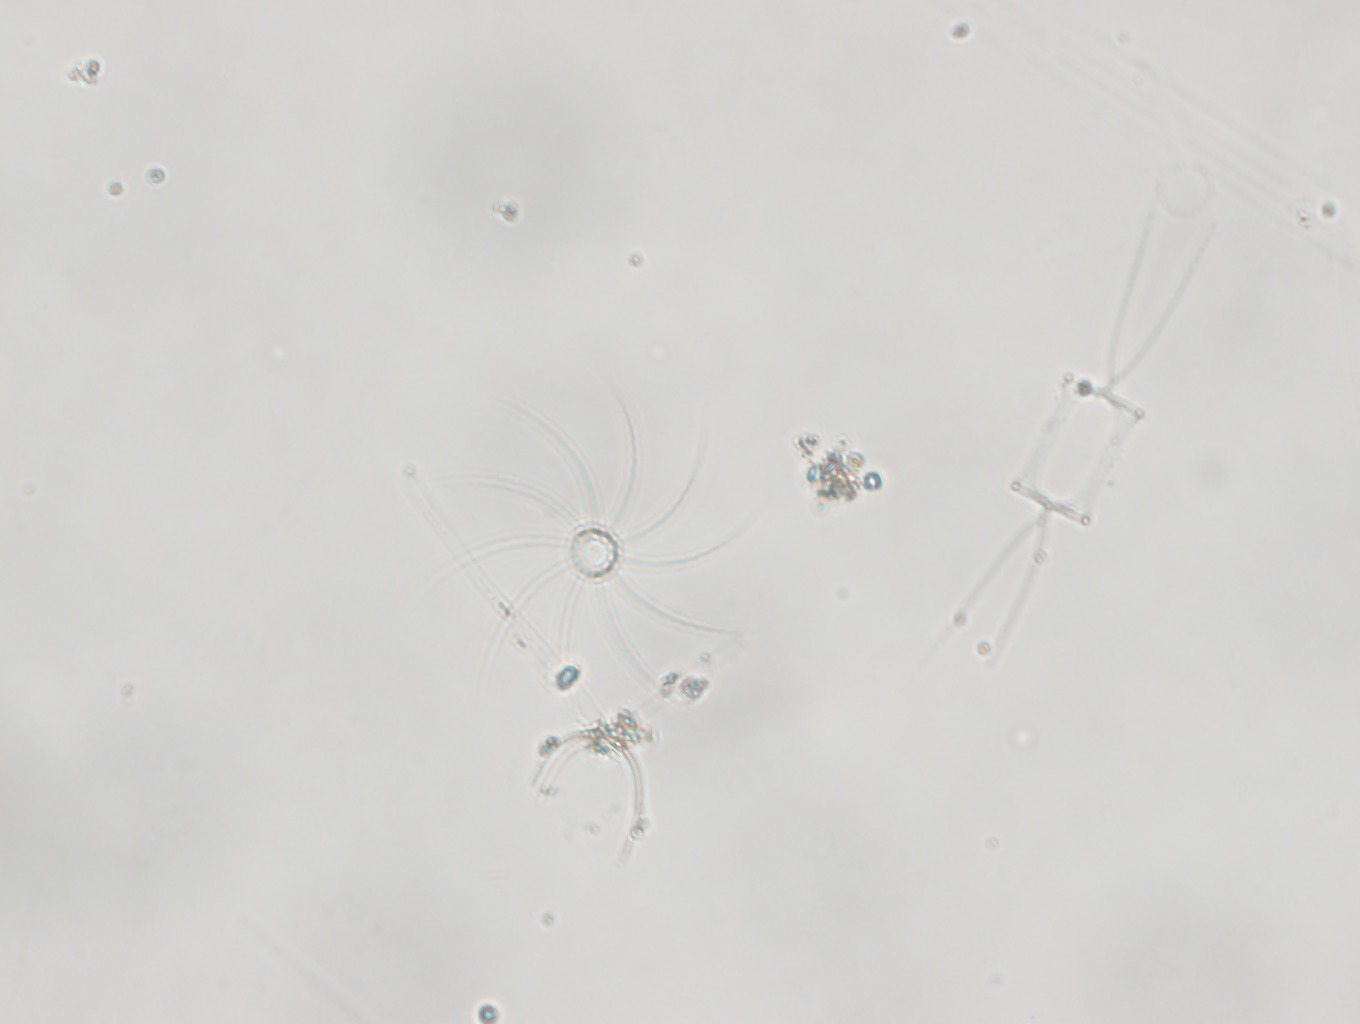bacteriastrum: (406, 380, 767, 746)
chaetoceros: (908, 179, 1219, 678)
